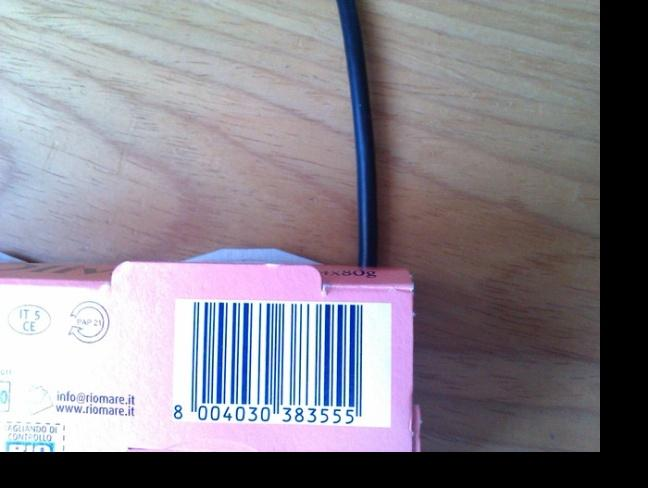Barcode: (172, 298, 371, 426)
